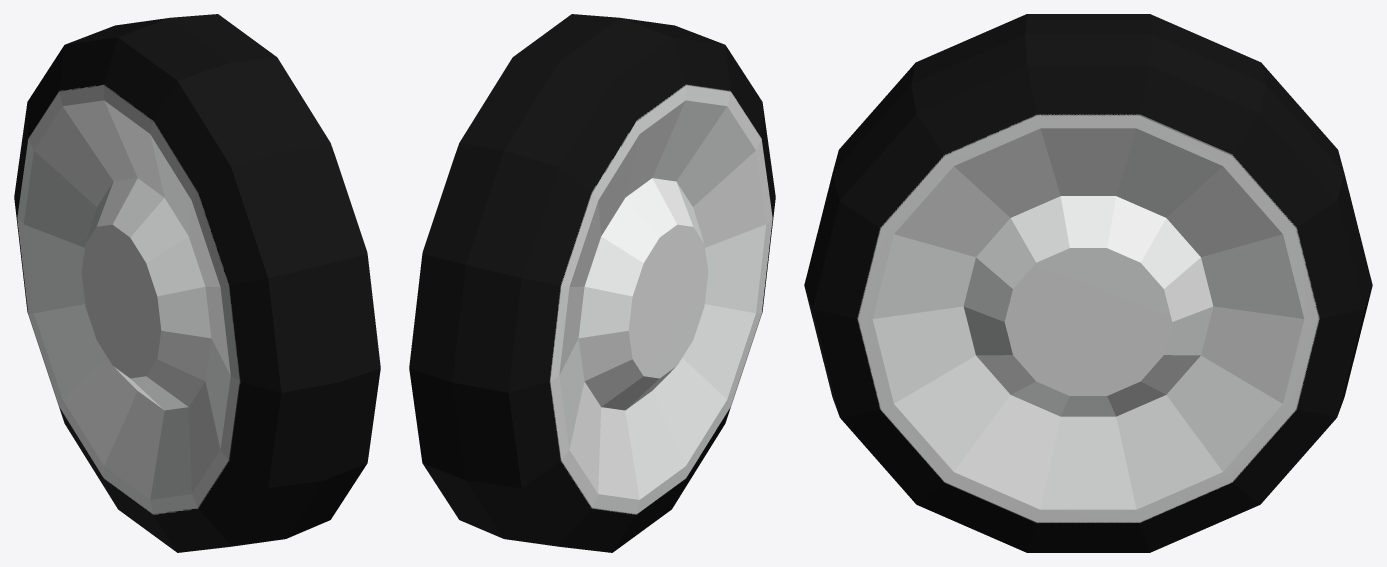
The model's file is left_back.fbx.
3 renders of one model, left to right at view 1: azimuth 30°, elevation 25°; view 2: azimuth 150°, elevation 25°; view 3: azimuth 270°, elevation 25°, orthographic. The views are drawn at different scales.
Visible parts, largest first — view 1: wheels_006.002; view 2: wheels_006.002; view 3: wheels_006.002.
Boxes of the visible parts, x1,y1,x2,y2 form: wheels_006.002: (14, 14, 380, 552); wheels_006.002: (409, 14, 775, 552); wheels_006.002: (804, 14, 1372, 552).
Bounding box in the file's own units: 99.22 × 302 × 310.
